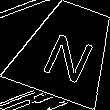N_N: (35, 20, 98, 82)
